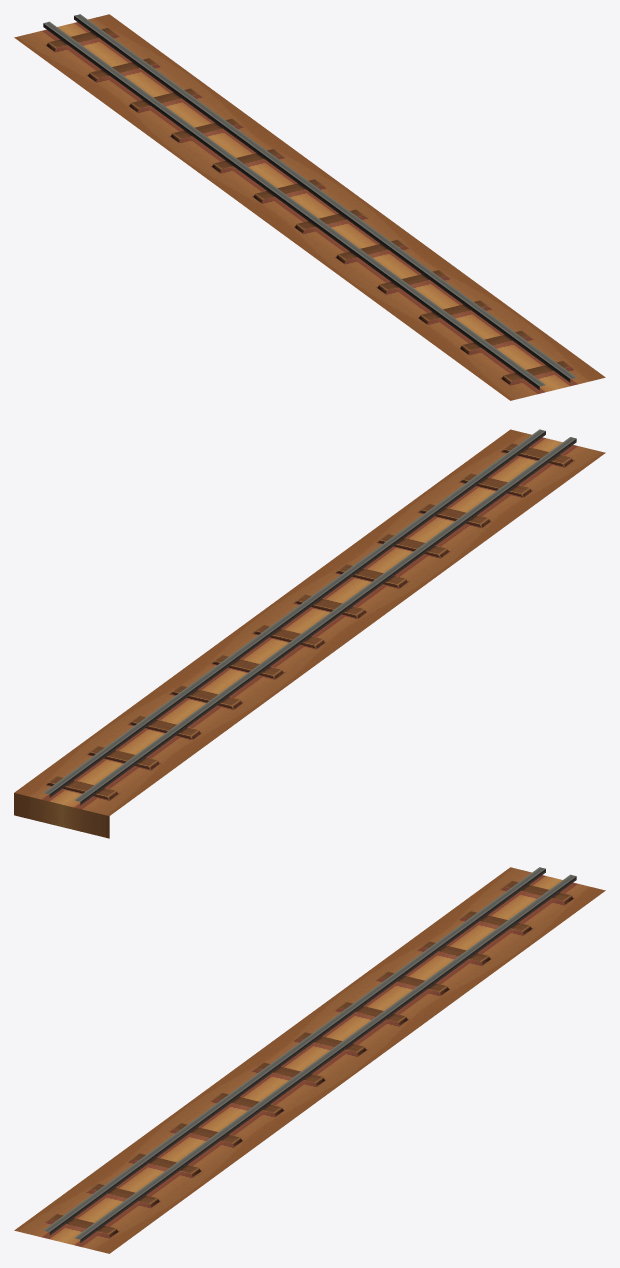
File: 1.100_SanFrancisco_track.glb
The picture shows the model from 3 angles, top to bottom: view 1: azimuth 30°, elevation 25°; view 2: azimuth 150°, elevation 25°; view 3: azimuth 330°, elevation 25°; orthographic projection.
Visible parts, largest first — view 1: 1.100_SanFrancisco_track; view 2: 1.100_SanFrancisco_track; view 3: 1.100_SanFrancisco_track.
Part boxes in pixels (bbox=[...]): 1.100_SanFrancisco_track: bbox=[14, 14, 605, 400]; 1.100_SanFrancisco_track: bbox=[14, 429, 605, 838]; 1.100_SanFrancisco_track: bbox=[14, 867, 605, 1253].
Size of the model in its own units: 20 by 5.96 by 180.
2 materials, 2 textured.
